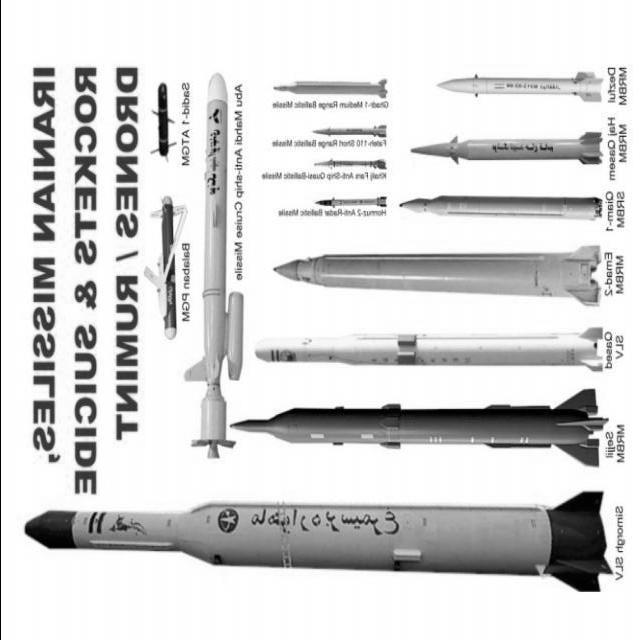missile: (13, 487, 613, 600), (224, 387, 605, 478), (180, 63, 244, 483), (265, 242, 607, 312), (389, 186, 607, 231), (406, 125, 607, 173), (432, 61, 607, 114)
